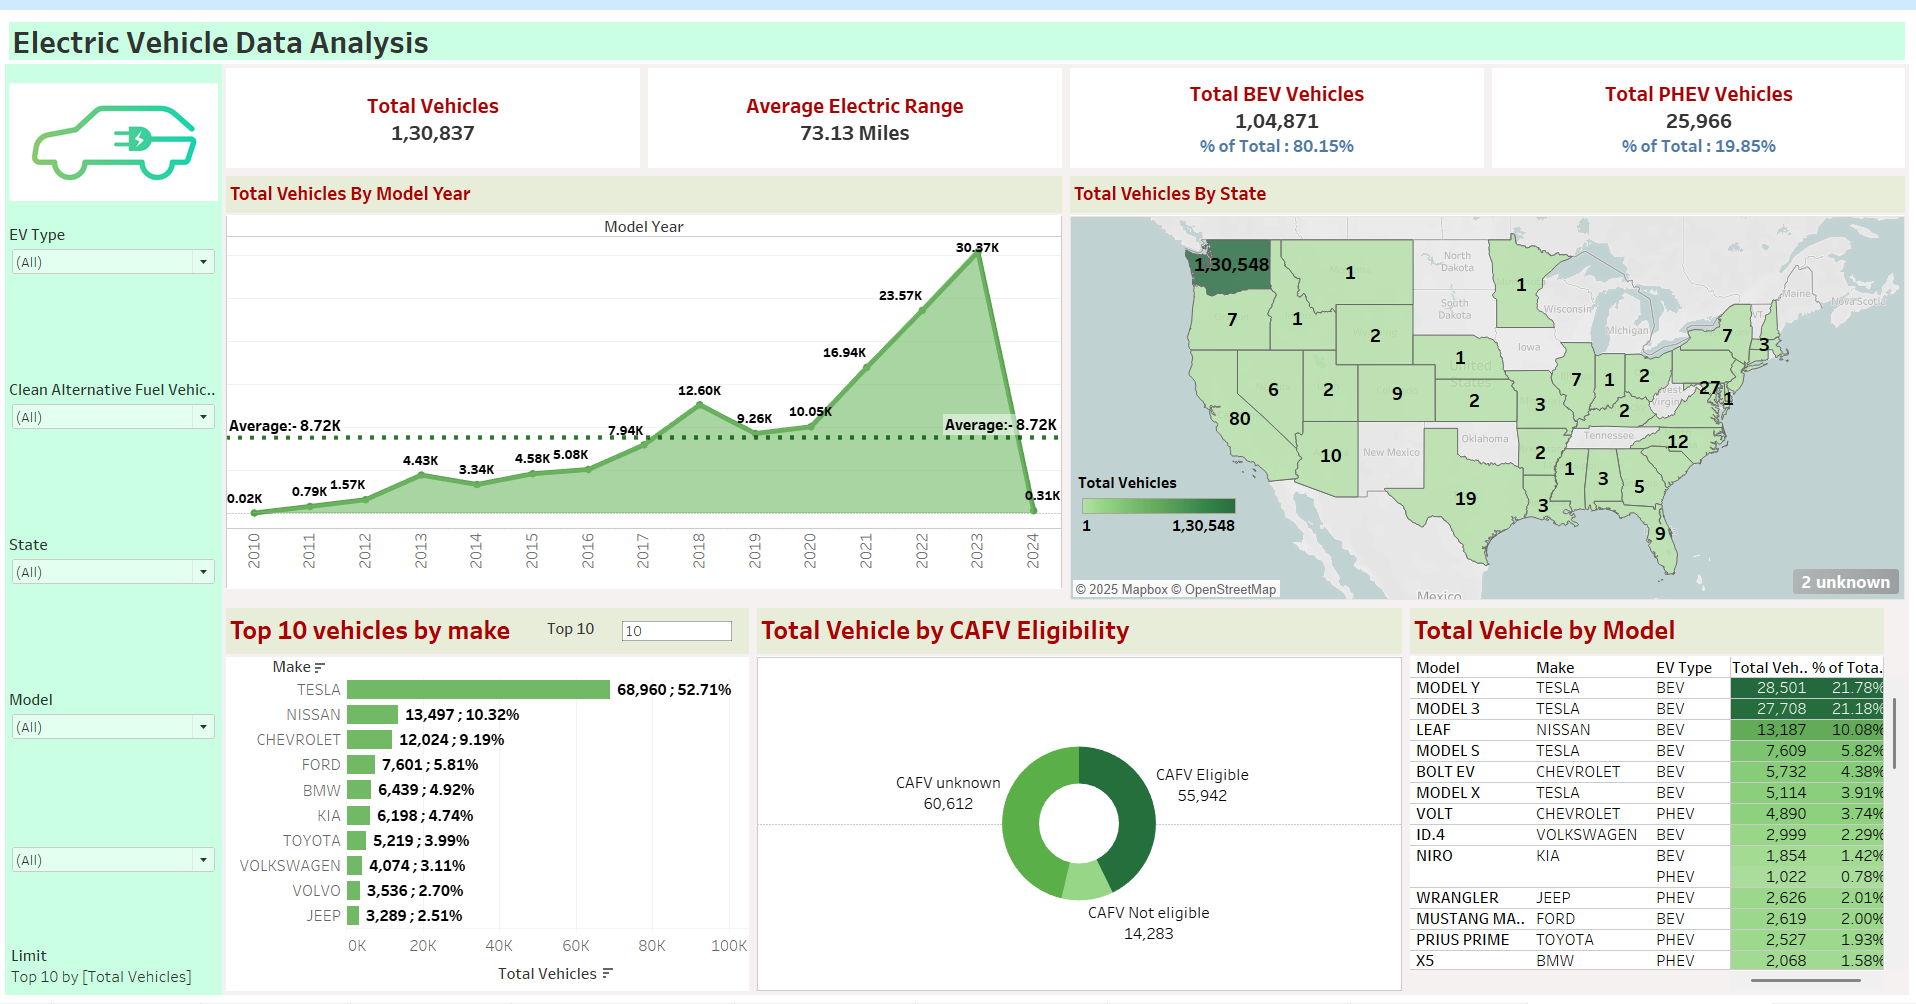

The dashboard page shown, as its layout file describes it:
{"tool":"tableau","page":{"name":"Electric Vehicle Data Analysis","canvas":[1000,1000],"units":"permille","ordinal":0},"visuals":[{"type":"title","box":[4.2,9.3,991.5,46.5]},{"type":"image","param":"C:/Users/pattn/OneDrive/Desktop/Tableau/PROJECT/240_F_524935557_JjYRXDktED3P5YlS","box":[4.2,55.8,112.8,156.8]},{"type":"worksheet","title":"Total number of vehicles","mark":"Automatic","box":[117.1,55.8,219.8,108]},{"type":"worksheet","title":"Avg Electric Range","mark":"Automatic","box":[336.9,55.8,219.8,108]},{"type":"worksheet","title":"Total BEV Vehicles","mark":"Automatic","box":[556.7,55.8,219.8,108]},{"type":"worksheet","title":"Total PHEV Vehicles","mark":"Automatic","box":[776.5,55.8,219.3,108]},{"type":"worksheet","title":"Total Vehicles By Model Year","mark":"Line","rows":["Calculation_265430956447289344","Calculation_265430956447289344"],"cols":["Model Year"],"box":[117.1,163.8,439.6,434.4]},{"type":"worksheet","title":"Total Vehicles By State","mark":"Automatic","box":[556.7,163.8,439.1,434.4]},{"type":"filter","title":"Top 10 vehicles by make","param":"[federated.1i7mryn1ash3rs1flqoe80oh0oww].[none:Electric Vehicle Type:nk]","box":[4.2,212.5,112.8,155.6]},{"type":"filter","title":"Top 10 vehicles by make","param":"[federated.1i7mryn1ash3rs1flqoe80oh0oww].[none:Clean Alternative Fuel Vehicle (C","box":[4.2,368.2,112.8,155.6]},{"type":"legend","title":"Total Vehicles By State","param":"[federated.1i7mryn1ash3rs1flqoe80oh0oww].[usr:Calculation_265430956447289344:qk]","box":[563.1,465.7,84.5,102.2]},{"type":"filter","title":"Top 10 vehicles by make","param":"[federated.1i7mryn1ash3rs1flqoe80oh0oww].[none:State:nk]","box":[4.2,523.8,112.8,155.6]},{"type":"worksheet","title":"Top 10 vehicles by make","mark":"Automatic","rows":["Make"],"cols":["Calculation_265430956447289344"],"box":[117.2,598.1,281.2,392.6]},{"type":"worksheet","title":"Total Vehicle by CAFV Eligibility","mark":"Pie","rows":["Calculation_601230603723497473","Calculation_601230603723497473"],"box":[398.4,598.1,330.9,392.6]},{"type":"worksheet","title":"Total Vehicle by Model","mark":"Square","rows":["Model","Make","Electric Vehicle Type"],"box":[729.3,598.1,266.4,392.6]},{"type":"parameter","param":"[Parameters].[Parameter 1]","box":[286.6,612.1,98,32.5]},{"type":"filter","title":"Top 10 vehicles by make","param":"[federated.1i7mryn1ash3rs1flqoe80oh0oww].[none:Model:nk]","box":[4.2,679.4,112.8,155.6]},{"type":"filter","title":"Top 10 vehicles by make","param":"[federated.1i7mryn1ash3rs1flqoe80oh0oww].[none:Make:nk]","box":[4.2,835.1,112.8,155.6]}]}

Visuals, with their boxes on the dashboard's canvas, which has no fixed pixel size, in thousandths of its width and height (x1, y1, x2, y2). These are canvas units, not pixel positions in the 1916x1004 screenshot, which may show the page scaled, cropped or inside an application window:
title: (4, 9, 996, 56)
image: (4, 56, 117, 213)
"Total number of vehicles" worksheet: (117, 56, 337, 164)
"Avg Electric Range" worksheet: (337, 56, 557, 164)
"Total BEV Vehicles" worksheet: (557, 56, 776, 164)
"Total PHEV Vehicles" worksheet: (776, 56, 996, 164)
"Total Vehicles By Model Year" worksheet (Line marks): (117, 164, 557, 598)
"Total Vehicles By State" worksheet: (557, 164, 996, 598)
"Top 10 vehicles by make" filter: (4, 212, 117, 368)
"Top 10 vehicles by make" filter: (4, 368, 117, 524)
"Total Vehicles By State" legend: (563, 466, 648, 568)
"Top 10 vehicles by make" filter: (4, 524, 117, 679)
"Top 10 vehicles by make" worksheet: (117, 598, 398, 991)
"Total Vehicle by CAFV Eligibility" worksheet (Pie marks): (398, 598, 729, 991)
"Total Vehicle by Model" worksheet (Square marks): (729, 598, 996, 991)
parameter: (287, 612, 385, 645)
"Top 10 vehicles by make" filter: (4, 679, 117, 835)
"Top 10 vehicles by make" filter: (4, 835, 117, 991)
